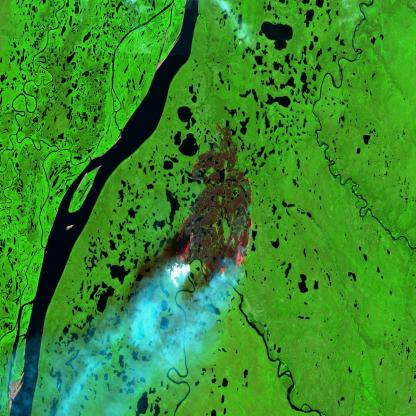fire: (174, 160, 259, 288)
